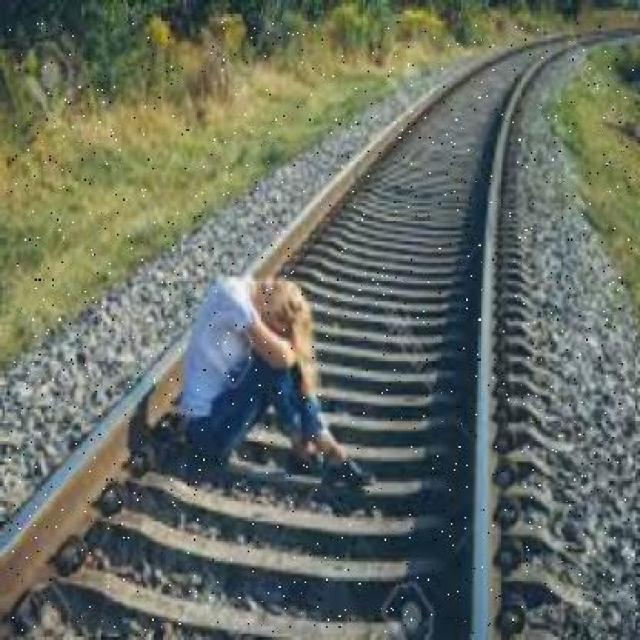danger: (168, 260, 382, 508)
rail: (9, 20, 635, 634)
